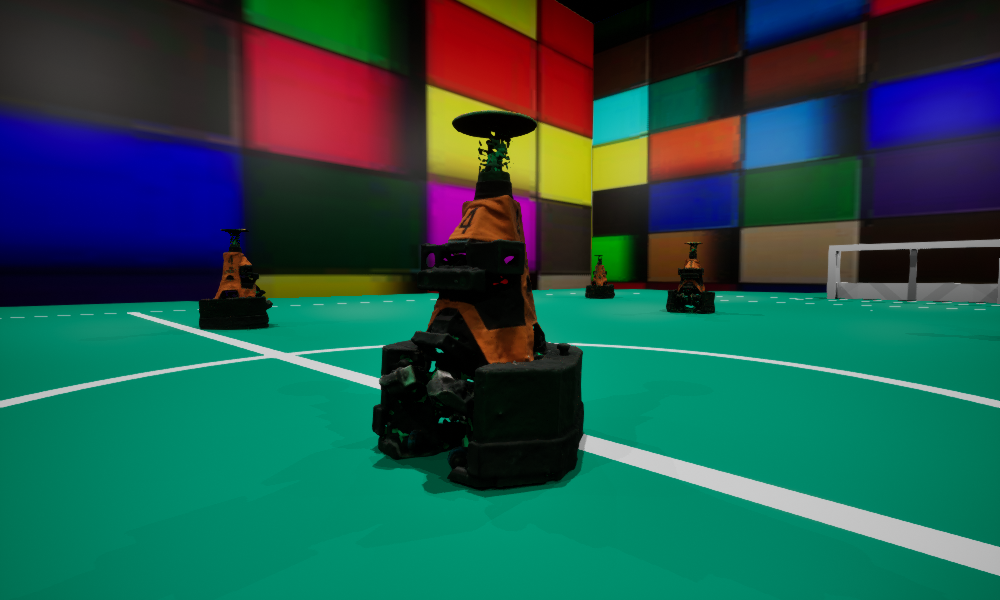o: (372, 110, 583, 486), (199, 229, 272, 329), (666, 242, 714, 312), (585, 255, 614, 298)
